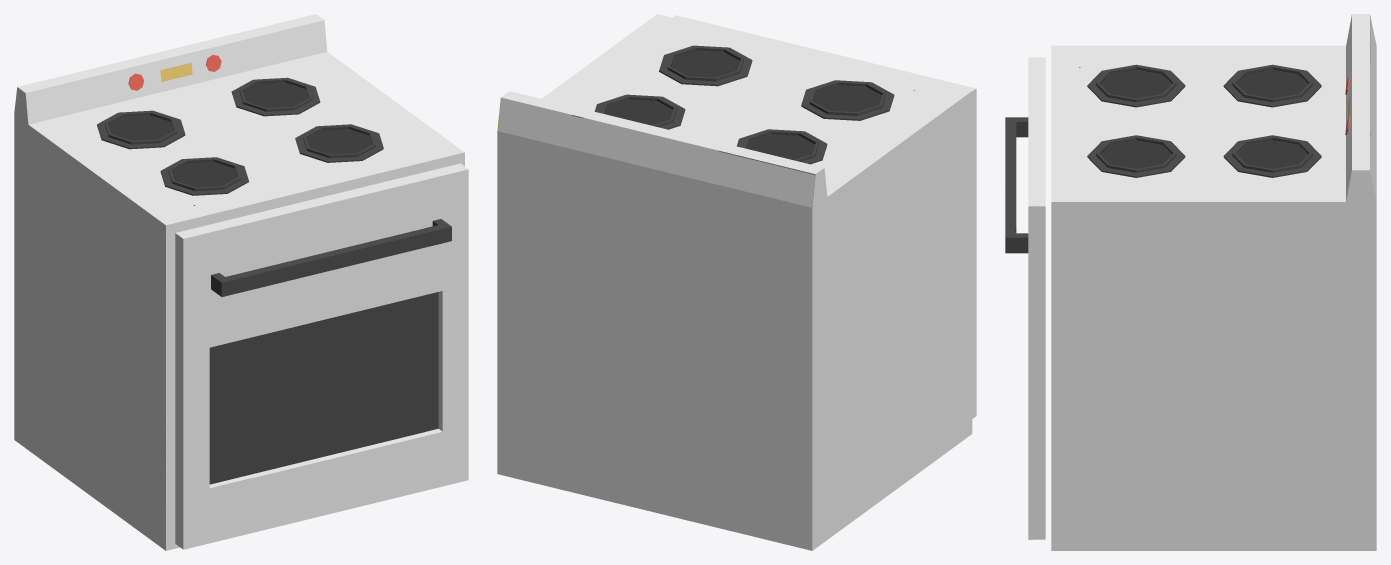
The model's file is Fogao.fbx.
The picture shows the model from 3 angles, left to right: view 1: azimuth 30°, elevation 25°; view 2: azimuth 150°, elevation 25°; view 3: azimuth 270°, elevation 25°; orthographic projection. The views are drawn at different scales.
Visible parts, largest first — view 1: Fogao, Fogao_PortaBaixo.001; view 2: Fogao, Fogao_PortaBaixo.001; view 3: Fogao, Fogao_PortaBaixo.001.
Boxes of the visible parts, left/top/right/bottom form: Fogao: left=14, top=14, right=464, bottom=550; Fogao_PortaBaixo.001: left=175, top=163, right=468, bottom=549; Fogao: left=497, top=14, right=972, bottom=550; Fogao_PortaBaixo.001: left=673, top=15, right=976, bottom=418; Fogao: left=1051, top=14, right=1376, bottom=550; Fogao_PortaBaixo.001: left=1005, top=57, right=1045, bottom=539.
Bounding box in the file's own units: 227 × 258 × 228.
